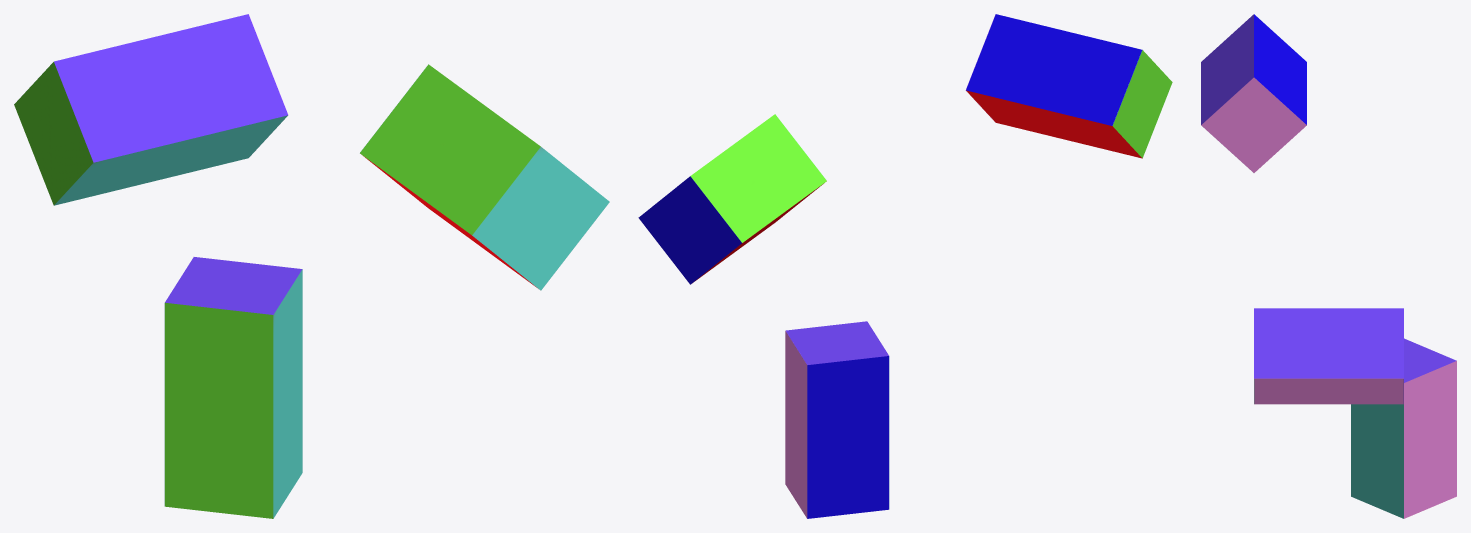
The model's file is cubes.gltf.
The picture shows the model from 3 angles, left to right: view 1: azimuth 30°, elevation 25°; view 2: azimuth 150°, elevation 25°; view 3: azimuth 270°, elevation 25°; orthographic projection. The views are drawn at different scales.
Visible parts, largest first — view 1: Cube1, Cube3, Cube2; view 2: Cube1, Cube3, Cube2; view 3: Cube2, Cube3, Cube1.
Boxes of the visible parts, box(x1,y1,x2,y2) form: Cube1: box(14, 14, 288, 205); Cube3: box(164, 257, 302, 518); Cube2: box(360, 64, 609, 290); Cube1: box(965, 14, 1172, 158); Cube3: box(785, 321, 889, 518); Cube2: box(638, 114, 826, 284); Cube2: box(1254, 308, 1403, 404); Cube3: box(1351, 338, 1456, 518); Cube1: box(1201, 14, 1306, 172).
Size of the model in its own units: 5.71 by 5.71 by 3.41.
1 material, 1 textured.
